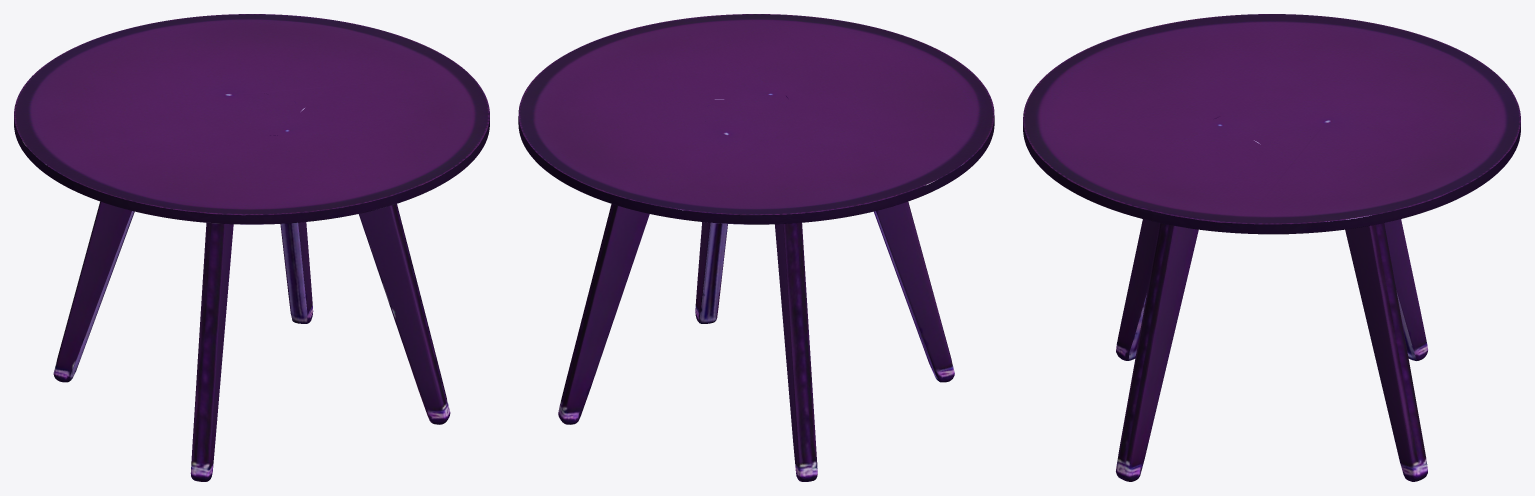
Rendered from edited_mesh.glb.
3 views of the same model, side by side, from view 1: azimuth 30°, elevation 25°; view 2: azimuth 150°, elevation 25°; view 3: azimuth 270°, elevation 25° (orthographic). The views are drawn at different scales.
Parts seen in each view (by area): view 1: solid_001_wire; view 2: solid_001_wire; view 3: solid_001_wire.
Part boxes in pixels (bbox=[...]): solid_001_wire: bbox=[14, 14, 489, 481]; solid_001_wire: bbox=[518, 14, 994, 481]; solid_001_wire: bbox=[1023, 14, 1520, 481].
Size of the model in its own units: 1.72 by 1.14 by 1.72.
Materials: 1 (1 with a texture image).
